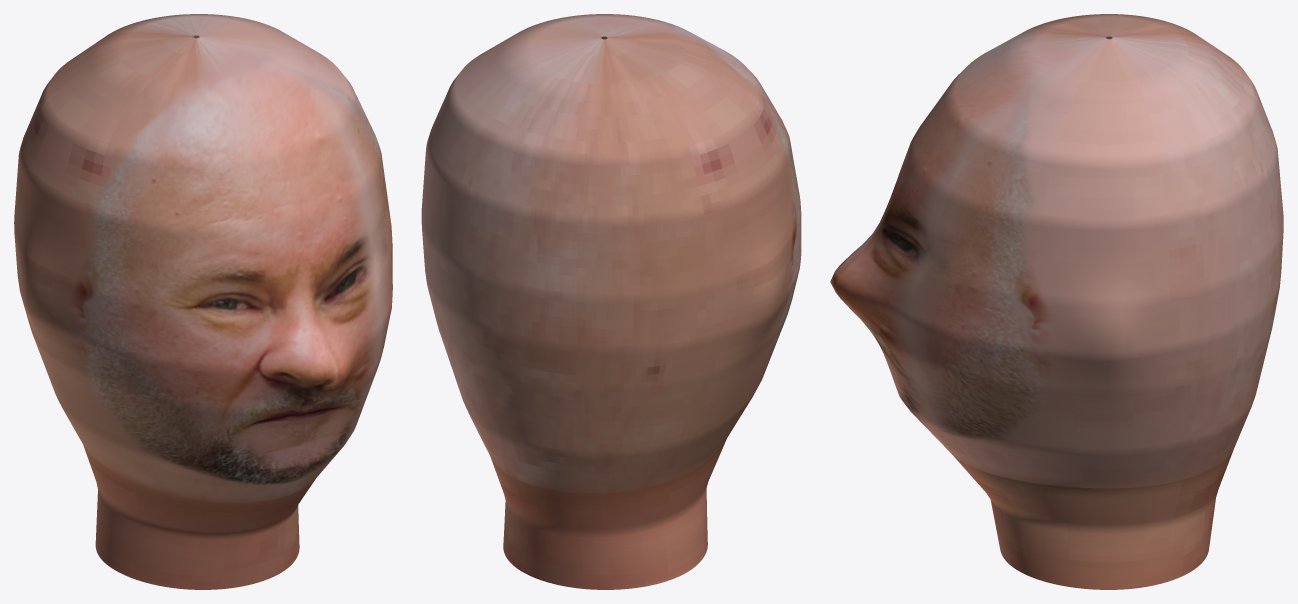
File: head.glb
The picture shows the model from 3 angles, left to right: view 1: azimuth 30°, elevation 25°; view 2: azimuth 150°, elevation 25°; view 3: azimuth 270°, elevation 25°; orthographic projection.
Parts seen in each view (by area): view 1: keith source head and dimensional accessories; view 2: keith source head and dimensional accessories; view 3: keith source head and dimensional accessories.
Boxes of the visible parts, x1,y1,x2,y2 form: keith source head and dimensional accessories: [14, 14, 392, 589]; keith source head and dimensional accessories: [421, 14, 801, 589]; keith source head and dimensional accessories: [830, 14, 1283, 589].
Bounding box in the file's own units: 0.2506 × 0.36 × 0.2906.
Materials: 1 (1 with a texture image).
